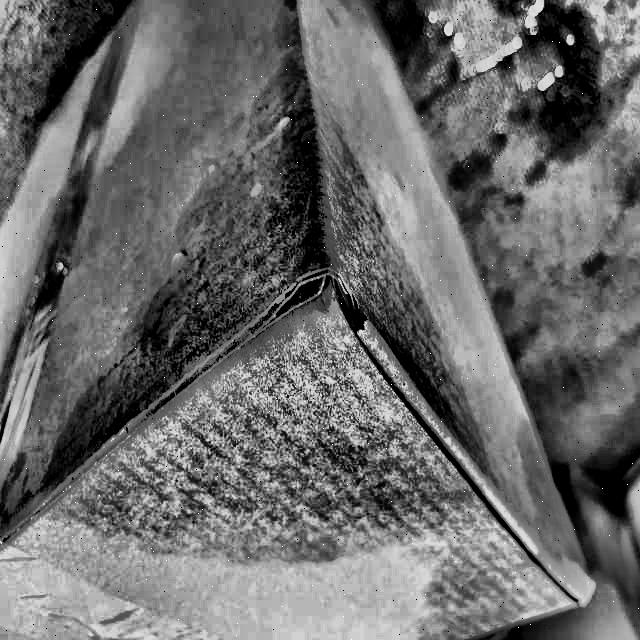box: (1, 1, 605, 640)
wet: (41, 70, 495, 602)
